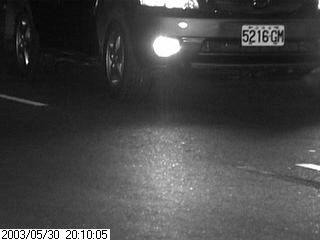plate: (239, 21, 286, 49)
